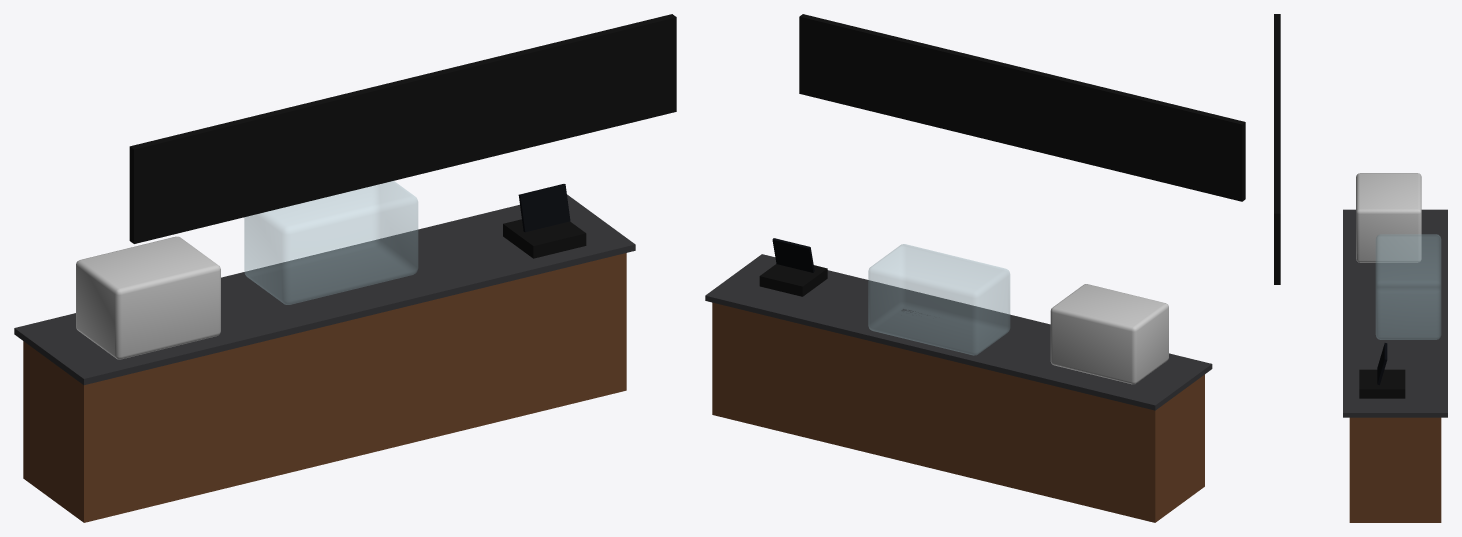
The model's file is airport.retail.cafe_counter.glb.
The picture shows the model from 3 angles, left to right: view 1: azimuth 30°, elevation 25°; view 2: azimuth 150°, elevation 25°; view 3: azimuth 270°, elevation 25°; orthographic projection. The views are drawn at different scales.
Visible parts, largest first — view 1: main__hardwood, main__plastic_black, main__worktop, main__glass, main__steel_stainless, main__screen; view 2: main__hardwood, main__plastic_black, main__worktop, main__glass, main__steel_stainless, main__screen; view 3: main__worktop, main__hardwood, main__glass, main__steel_stainless, main__plastic_black, main__screen.
Boxes of the visible parts, x1,y1,x2,y2 form: main__hardwood: [23, 253, 626, 522]; main__plastic_black: [129, 14, 676, 258]; main__worktop: [14, 194, 635, 385]; main__glass: [244, 181, 417, 304]; main__steel_stainless: [76, 236, 220, 359]; main__screen: [518, 184, 570, 232]; main__hardwood: [712, 302, 1204, 522]; main__plastic_black: [759, 14, 1245, 296]; main__worktop: [705, 254, 1212, 410]; main__glass: [868, 244, 1009, 355]; main__steel_stainless: [1050, 284, 1168, 384]; main__screen: [772, 238, 814, 272]; main__worktop: [1343, 209, 1447, 417]; main__hardwood: [1349, 417, 1441, 522]; main__glass: [1376, 234, 1440, 339]; main__steel_stainless: [1356, 173, 1421, 262]; main__plastic_black: [1274, 14, 1405, 398]; main__screen: [1377, 343, 1387, 385].
Bounding box in the file's own units: 3.66 × 2.6 × 1.32.
